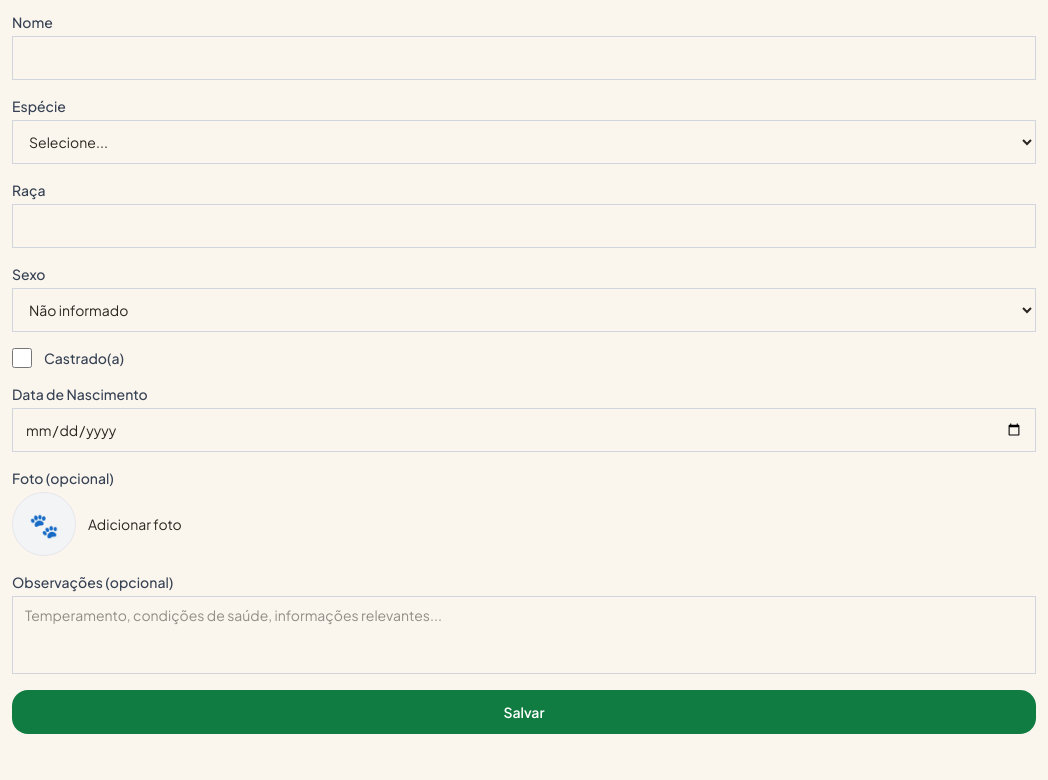
Test case: PetForm › should require name before submitting
Click the button "Salvar": x=524, y=712 [12, 690, 1036, 734]
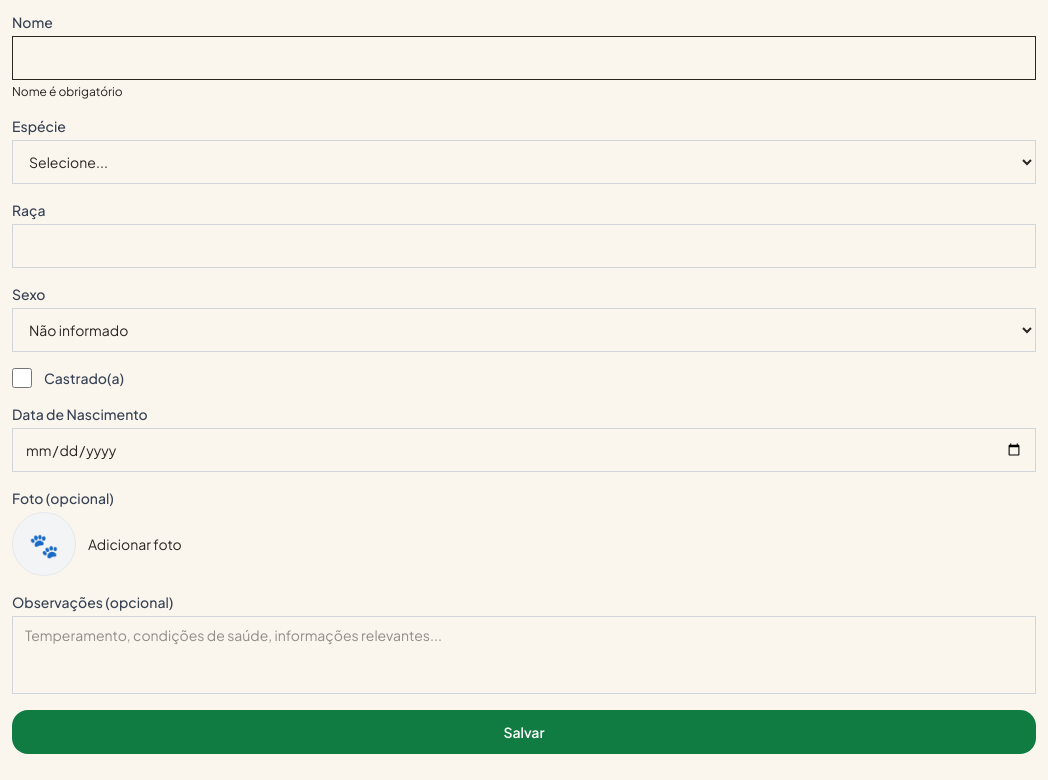
Check: the text "Nome é obrigatório" is shown, box [12, 84, 123, 99]
